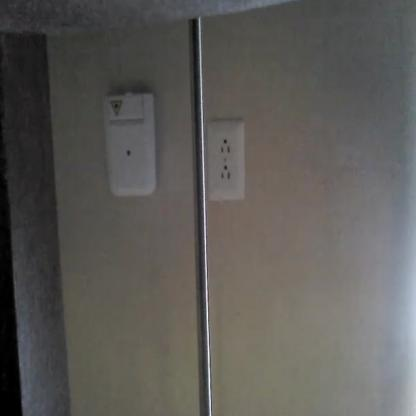OUTLET: (207, 121, 244, 202)
